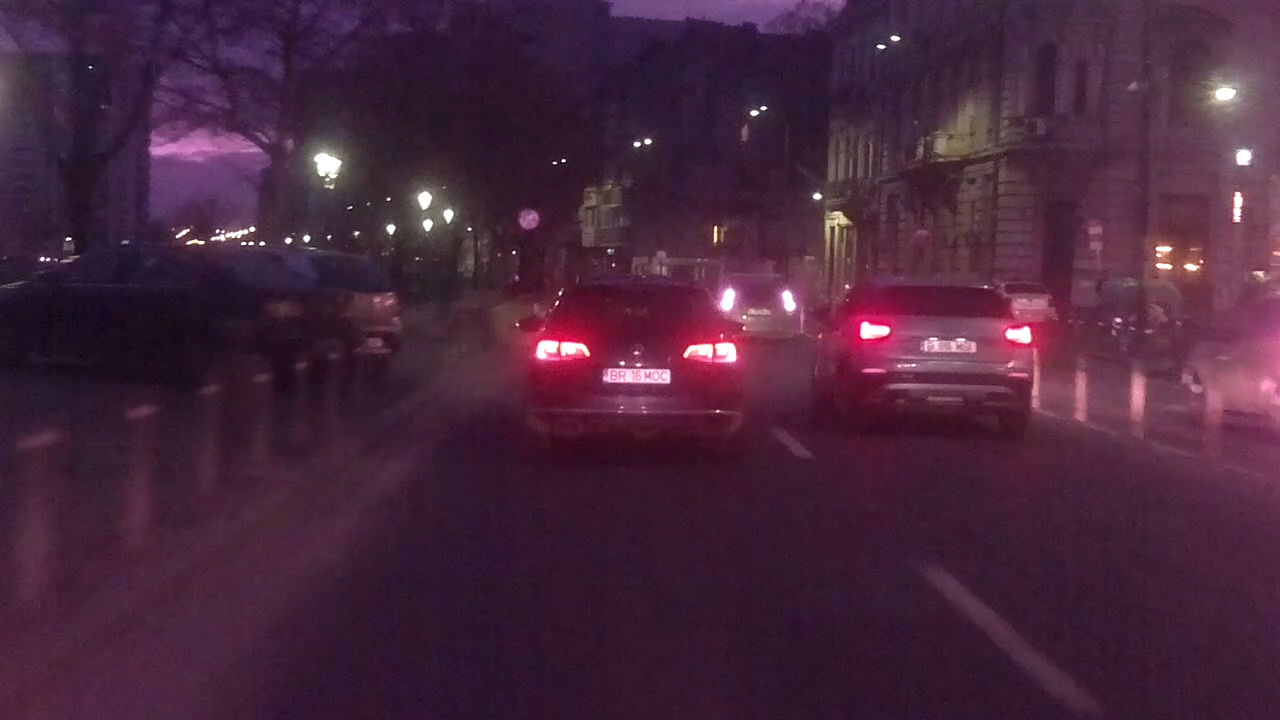license-plate: (599, 366, 674, 386), (916, 338, 980, 355)
